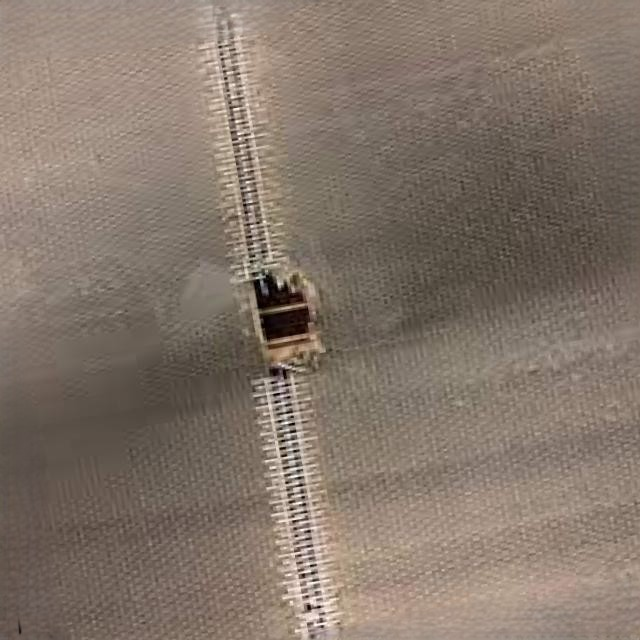Hole: (240, 268, 334, 382)
